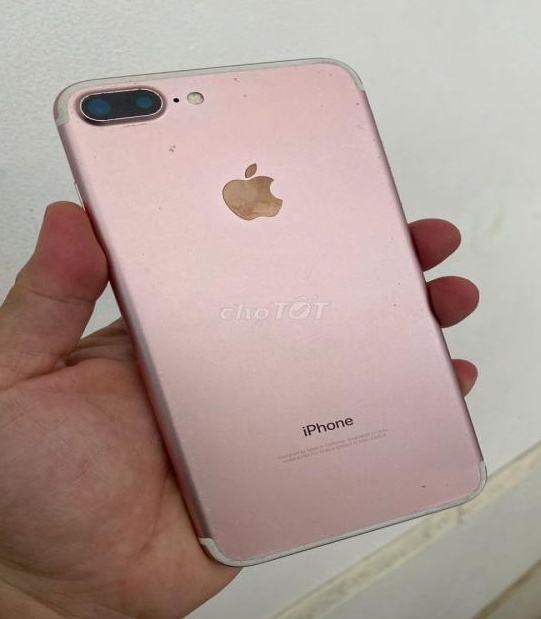scratch: (56, 64, 391, 167), (401, 465, 490, 516), (379, 266, 437, 331), (188, 536, 321, 564)
